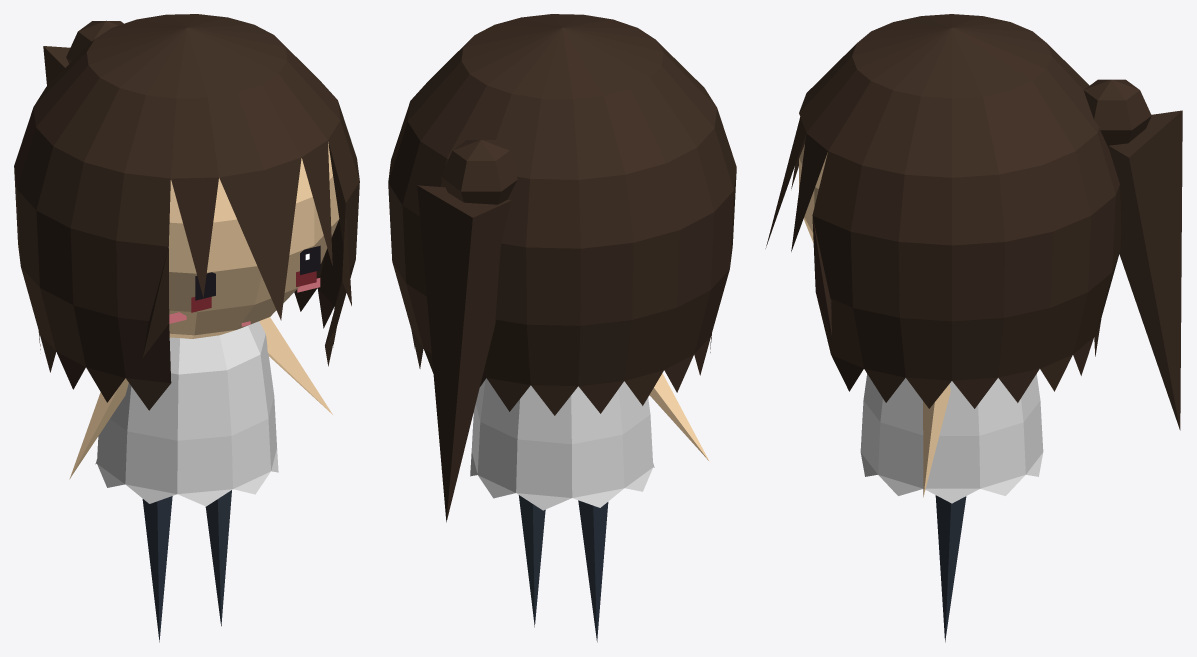
File: lp_pony.glb
The picture shows the model from 3 angles, left to right: view 1: azimuth 30°, elevation 25°; view 2: azimuth 150°, elevation 25°; view 3: azimuth 270°, elevation 25°; orthographic projection.
Parts seen in each view (by area): view 1: hair, cloth, skin, legL, legR, armR, armL, eye, eyec; view 2: hair, cloth, legL, legR, armL; view 3: hair, cloth, legR, armR.
Part boxes in pixels (box(x1,y1,x2,y2)): hair: box(14, 14, 359, 410); cloth: box(95, 321, 278, 506); skin: box(168, 142, 339, 338); legL: box(142, 496, 172, 642); legR: box(205, 490, 231, 626); armR: box(259, 317, 332, 414); armL: box(69, 378, 128, 479); eye: box(195, 245, 320, 300); eyec: box(191, 271, 316, 312); hair: box(388, 14, 736, 522); cloth: box(470, 378, 654, 510); legL: box(578, 500, 608, 642); legR: box(518, 495, 545, 627); armL: box(649, 373, 709, 461); hair: box(765, 14, 1182, 430); cloth: box(860, 374, 1043, 503); legR: box(935, 495, 966, 642); armR: box(923, 384, 950, 497).
Bounding box in the file's own units: 0.604 × 1.16 × 0.7311.
